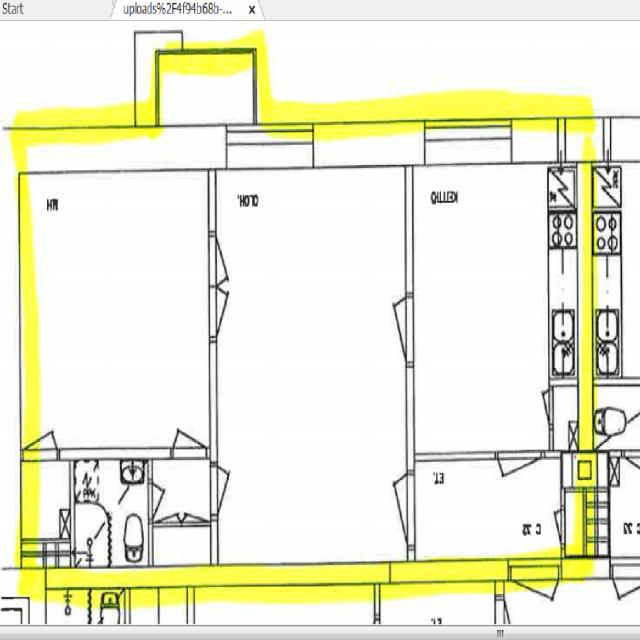door: (360, 476, 416, 547), (510, 564, 558, 640), (364, 296, 416, 362), (498, 452, 542, 522), (210, 232, 252, 285), (210, 285, 252, 337), (24, 399, 59, 459), (210, 466, 250, 514), (174, 400, 206, 460), (148, 480, 180, 519), (522, 389, 553, 428), (536, 511, 566, 549), (157, 486, 181, 527), (182, 486, 206, 527)
